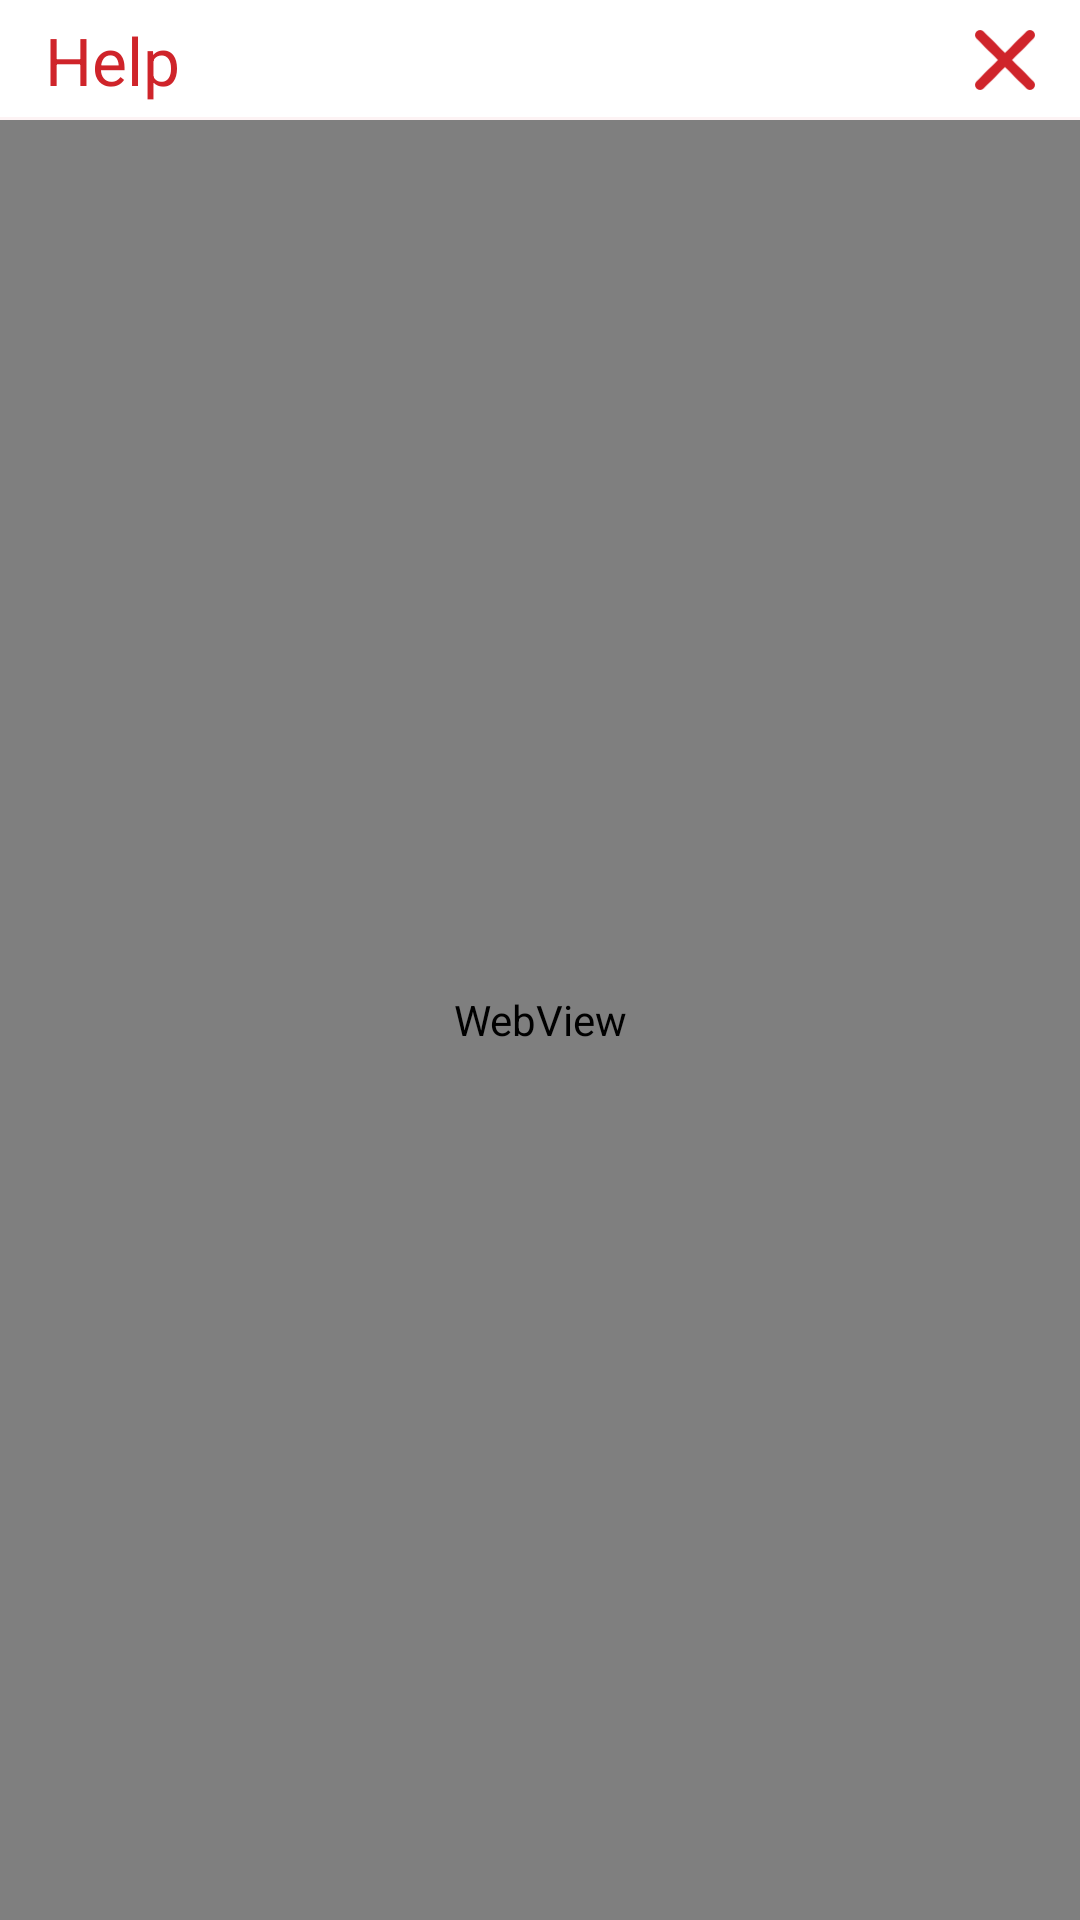

Screen size 1080px x 1920px. Icon name, then its center in pixels as (x,y):
close: (1005,60)
